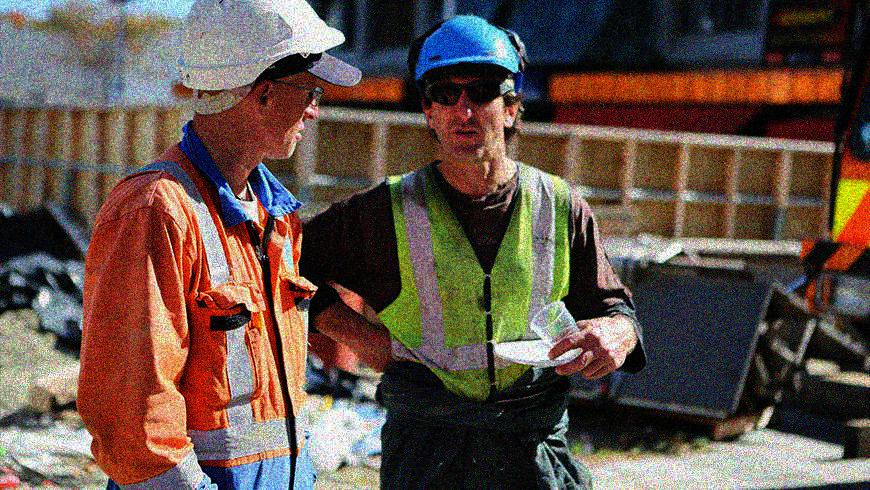helmet: (177, 1, 348, 163), (411, 13, 529, 164)
